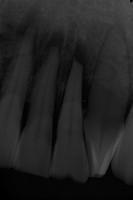Furcation Involvement: (17, 3, 41, 41), (39, 30, 65, 64), (70, 40, 86, 68)
